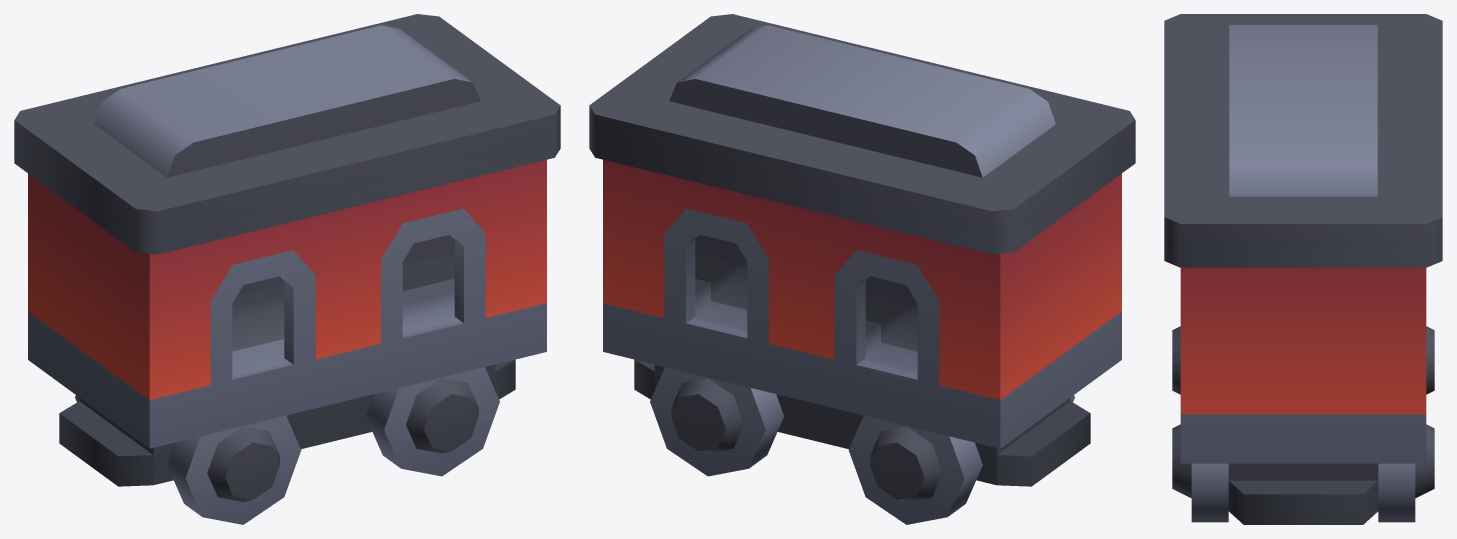
Rendered from kenney-holiday-train-wagon-short.glb.
3 renders of one model, left to right at view 1: azimuth 30°, elevation 25°; view 2: azimuth 150°, elevation 25°; view 3: azimuth 270°, elevation 25°, orthographic.
Visible parts, largest first — view 1: train-wagon-short; view 2: train-wagon-short; view 3: train-wagon-short.
Boxes of the visible parts, x1,y1,x2,y2 form: train-wagon-short: (14, 14, 560, 524); train-wagon-short: (589, 14, 1135, 524); train-wagon-short: (1164, 14, 1442, 524).
Size of the model in its own units: 0.3697 by 0.313 by 0.207.
1 material, 1 textured.
